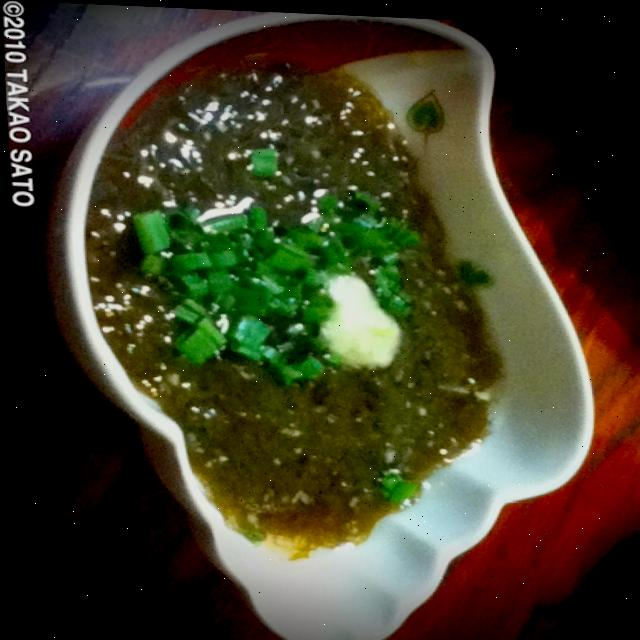蔬菜料理: (36, 38, 615, 583)
